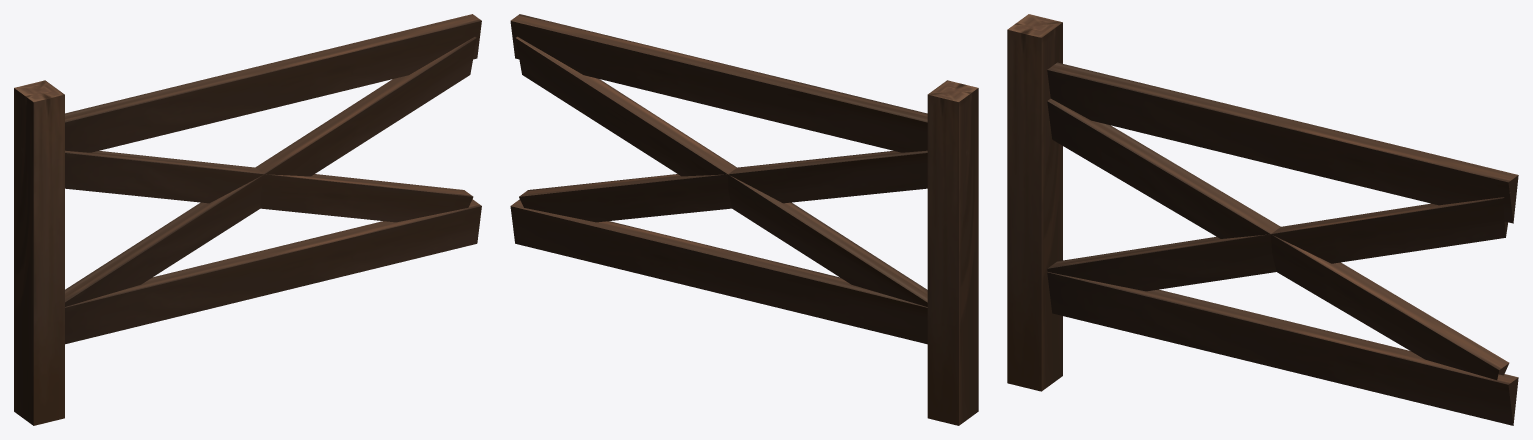
File: OutdoorM_Fence_b_connect.FBX
3 views of the same model, side by side, from view 1: azimuth 30°, elevation 25°; view 2: azimuth 150°, elevation 25°; view 3: azimuth 330°, elevation 25° (orthographic). The views are drawn at different scales.
Parts seen in each view (by area): view 1: OutdoorM_Fence_b_connect; view 2: OutdoorM_Fence_b_connect; view 3: OutdoorM_Fence_b_connect.
Boxes of the visible parts, <box> form: OutdoorM_Fence_b_connect: <box>14,14,481,425</box>; OutdoorM_Fence_b_connect: <box>510,14,978,425</box>; OutdoorM_Fence_b_connect: <box>1007,14,1518,425</box>.
Size of the model in its own units: 19.76 by 13.48 by 1.48.
